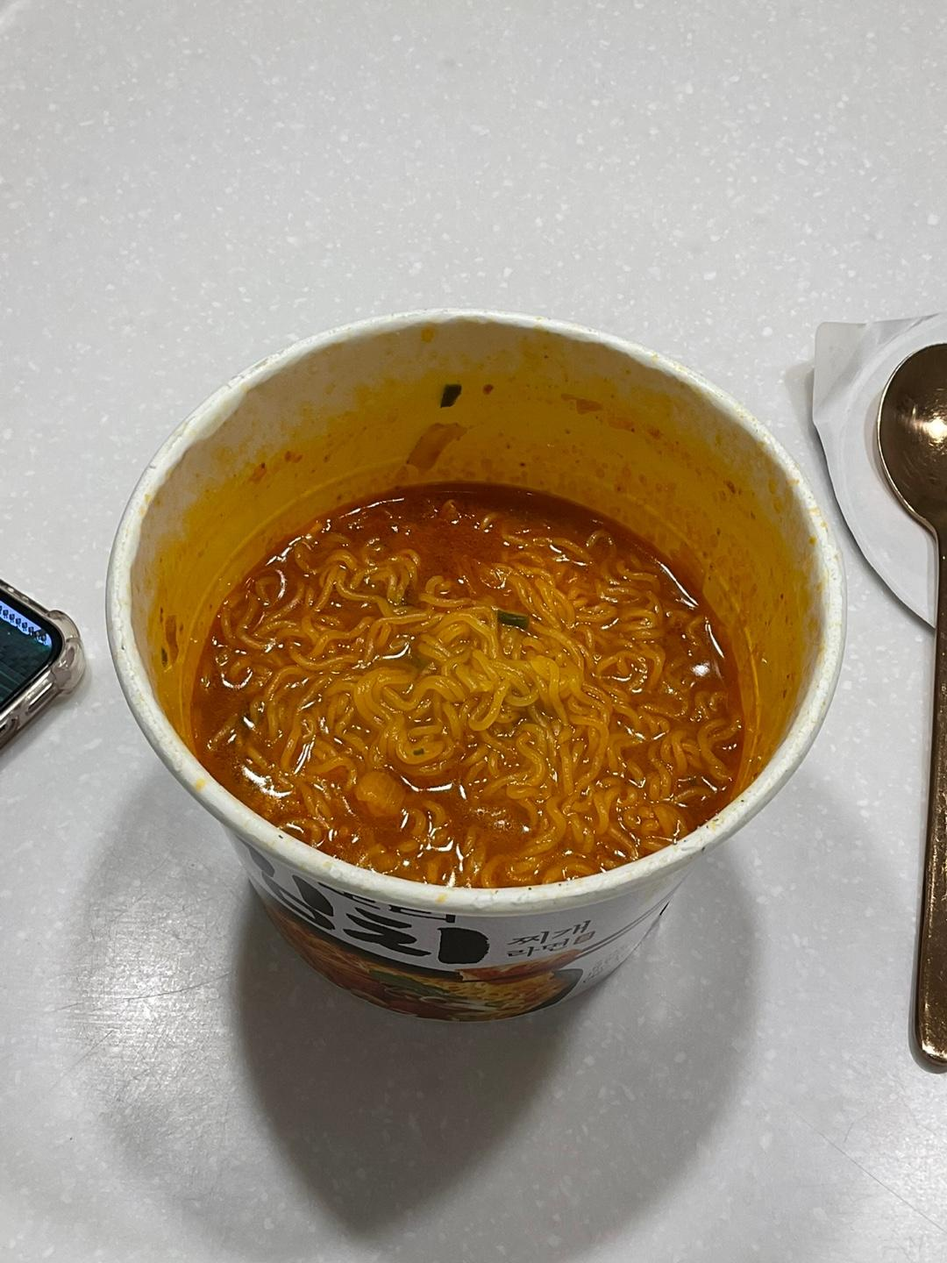Lunch Box: (109, 314, 839, 1020)
